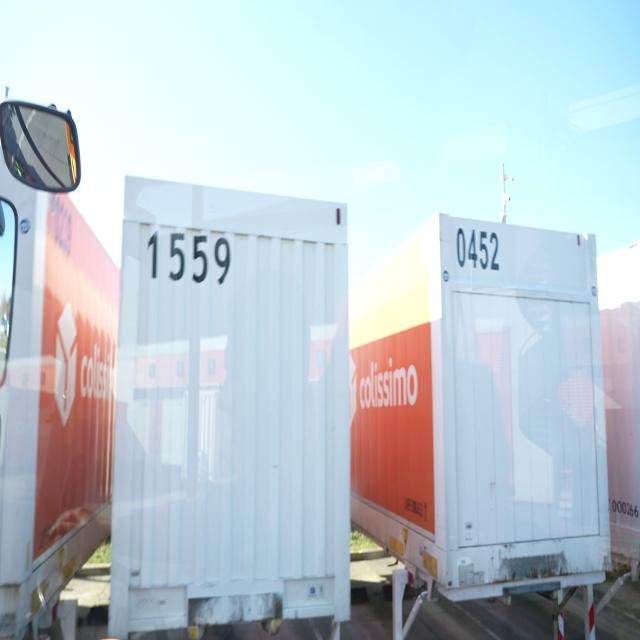Code: (146, 222, 234, 294), (454, 220, 504, 280)
